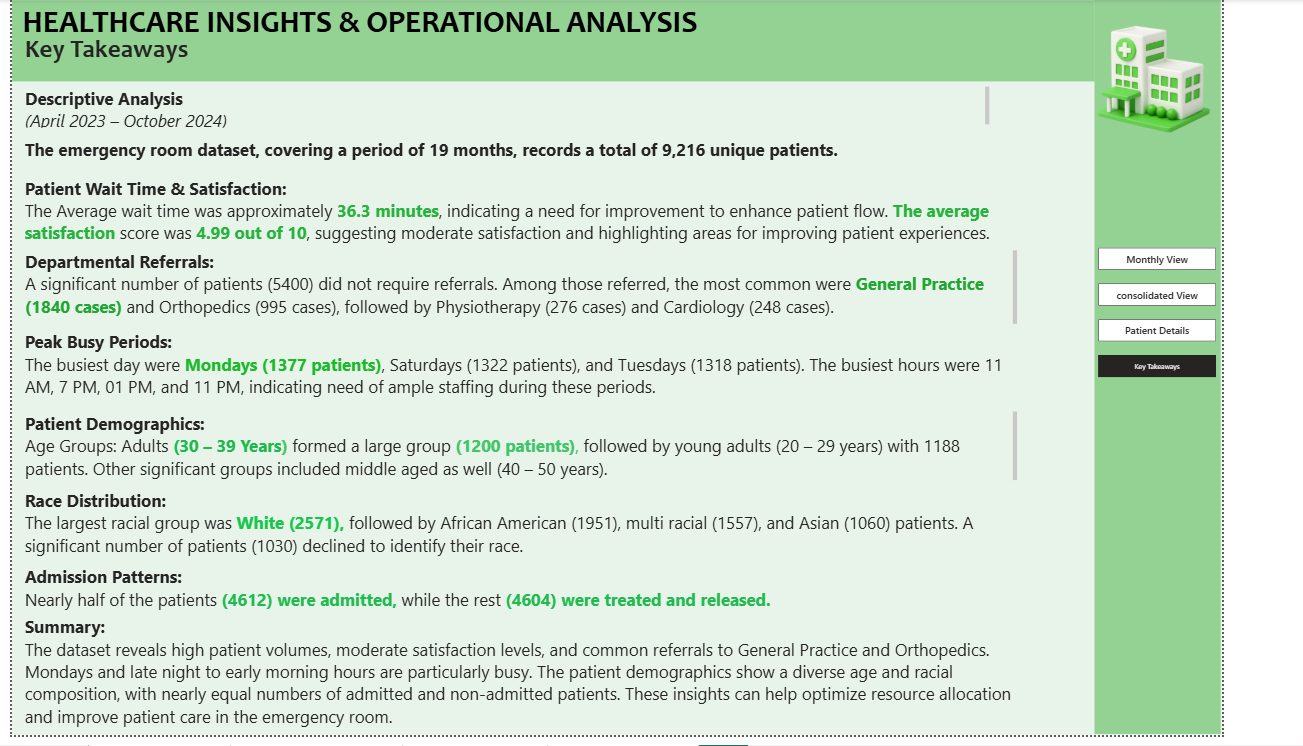

This screenshot's page, from the dashboard's own definition file:
{"tool":"powerbi","page":{"name":"Key Takeaways","canvas":[2300,1400],"ordinal":3},"visuals":[{"type":"shape","box":[2059.1,0,240.2,1398.1],"z":0},{"type":"shape","box":[0,2.4,2059.1,154.6],"z":1000},{"type":"textbox","box":[2.5,2.5,1989.8,115.9],"z":2000},{"type":"textbox","box":[19,80.8,1992.5,126],"z":3000},{"type":"image","box":[2042.6,0,257.4,295.7],"z":4000},{"type":"pageNavigator","box":[2066.7,473.3,224.4,248.9],"z":5000},{"type":"textbox","box":[19,59.4,1866.5,88],"z":6000},{"type":"textbox","box":[19,161.7,1845.1,88],"z":7000},{"type":"textbox","box":[19,259.2,1897.4,73.7],"z":8000},{"type":"textbox","box":[19,332.9,1897.4,140.3],"z":9000},{"type":"textbox","box":[19,473.2,1897.4,152.2],"z":10000},{"type":"textbox","box":[19,625.3,1897.4,154.6],"z":11000},{"type":"textbox","box":[19,779.9,1897.4,147.4],"z":11001},{"type":"textbox","box":[19,927.3,1897.4,145],"z":11002},{"type":"textbox","box":[19,1072.4,1897.4,121.3],"z":11003},{"type":"textbox","box":[19,1167.5,1897.4,230.6],"z":11004}]}

Visuals, with their boxes on the page's 2300x1400 design canvas (x1, y1, x2, y2). These are canvas units, not pixel positions in the 1303x746 screenshot, which may show the page scaled, cropped or inside an application window:
shape: box=[2059, 0, 2299, 1398]
shape: box=[0, 2, 2059, 157]
textbox: box=[2, 2, 1992, 118]
textbox: box=[19, 81, 2012, 207]
image: box=[2043, 0, 2300, 296]
pageNavigator: box=[2067, 473, 2291, 722]
textbox: box=[19, 59, 1886, 147]
textbox: box=[19, 162, 1864, 250]
textbox: box=[19, 259, 1916, 333]
textbox: box=[19, 333, 1916, 473]
textbox: box=[19, 473, 1916, 625]
textbox: box=[19, 625, 1916, 780]
textbox: box=[19, 780, 1916, 927]
textbox: box=[19, 927, 1916, 1072]
textbox: box=[19, 1072, 1916, 1194]
textbox: box=[19, 1168, 1916, 1398]
